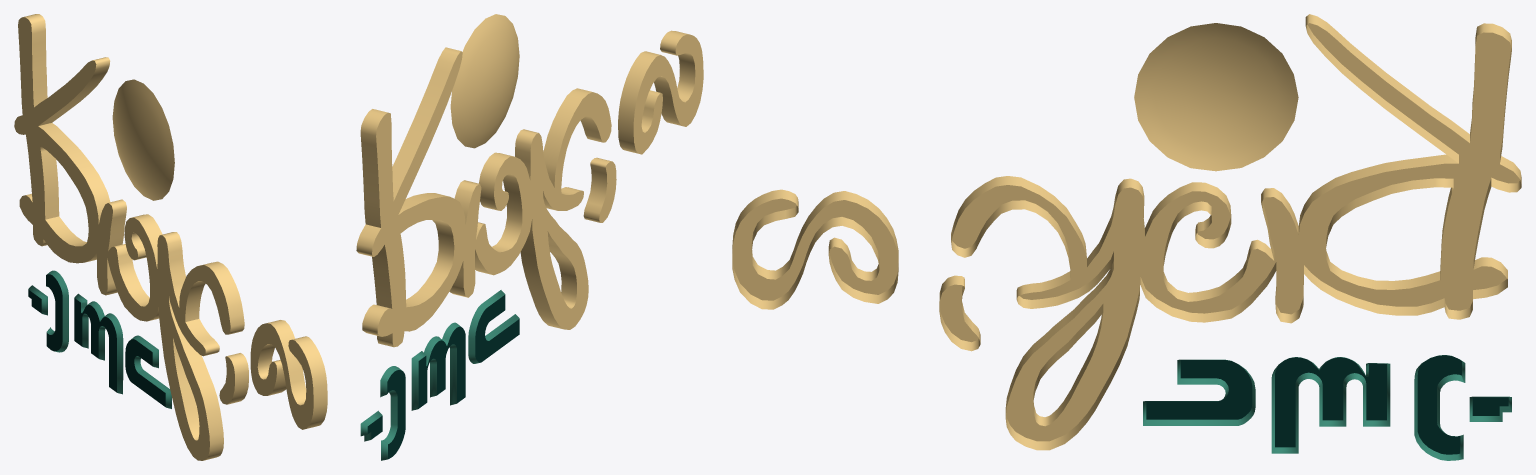
The model's file is OT_028_esmer_bar_sign.glb.
3 views of the same model, side by side, from view 1: azimuth 30°, elevation 25°; view 2: azimuth 150°, elevation 25°; view 3: azimuth 270°, elevation 25° (orthographic). The views are drawn at different scales.
Parts seen in each view (by area): view 1: rick, m; view 2: rick, m; view 3: rick, m.
Boxes of the visible parts, <box> form: rick: <box>14,14,327,460</box>; m: <box>28,270,171,408</box>; rick: <box>356,14,703,347</box>; m: <box>360,290,519,460</box>; rick: <box>732,14,1521,450</box>; m: <box>1143,355,1511,460</box>.
Size of the model in its own units: 0.0793 by 1.79 by 2.93.
